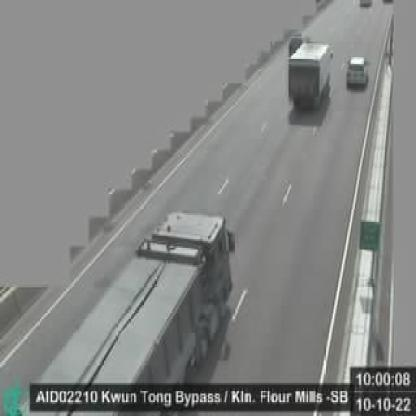Car: (348, 57, 369, 88), (361, 1, 373, 9)
Truck: (20, 213, 228, 406), (290, 41, 334, 109)
